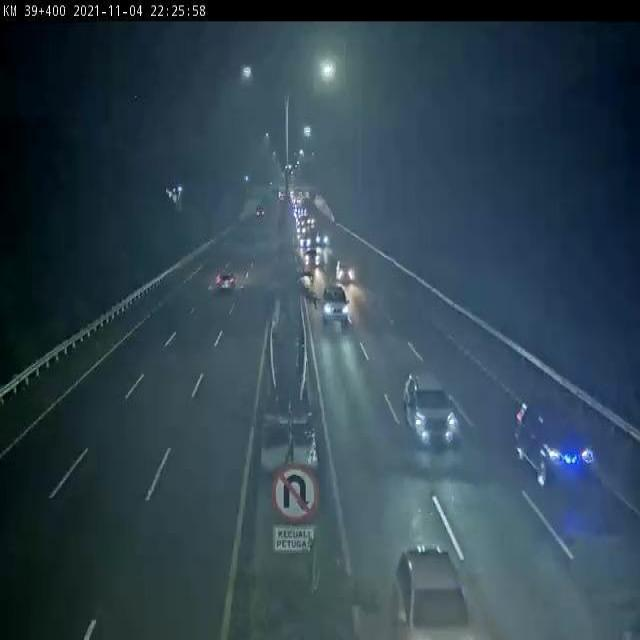car: (390, 545, 477, 640), (517, 399, 595, 489), (406, 374, 460, 449), (323, 285, 350, 331), (336, 257, 355, 284), (217, 272, 235, 289), (305, 248, 319, 267), (317, 230, 329, 246), (300, 239, 311, 248), (297, 225, 305, 235)
